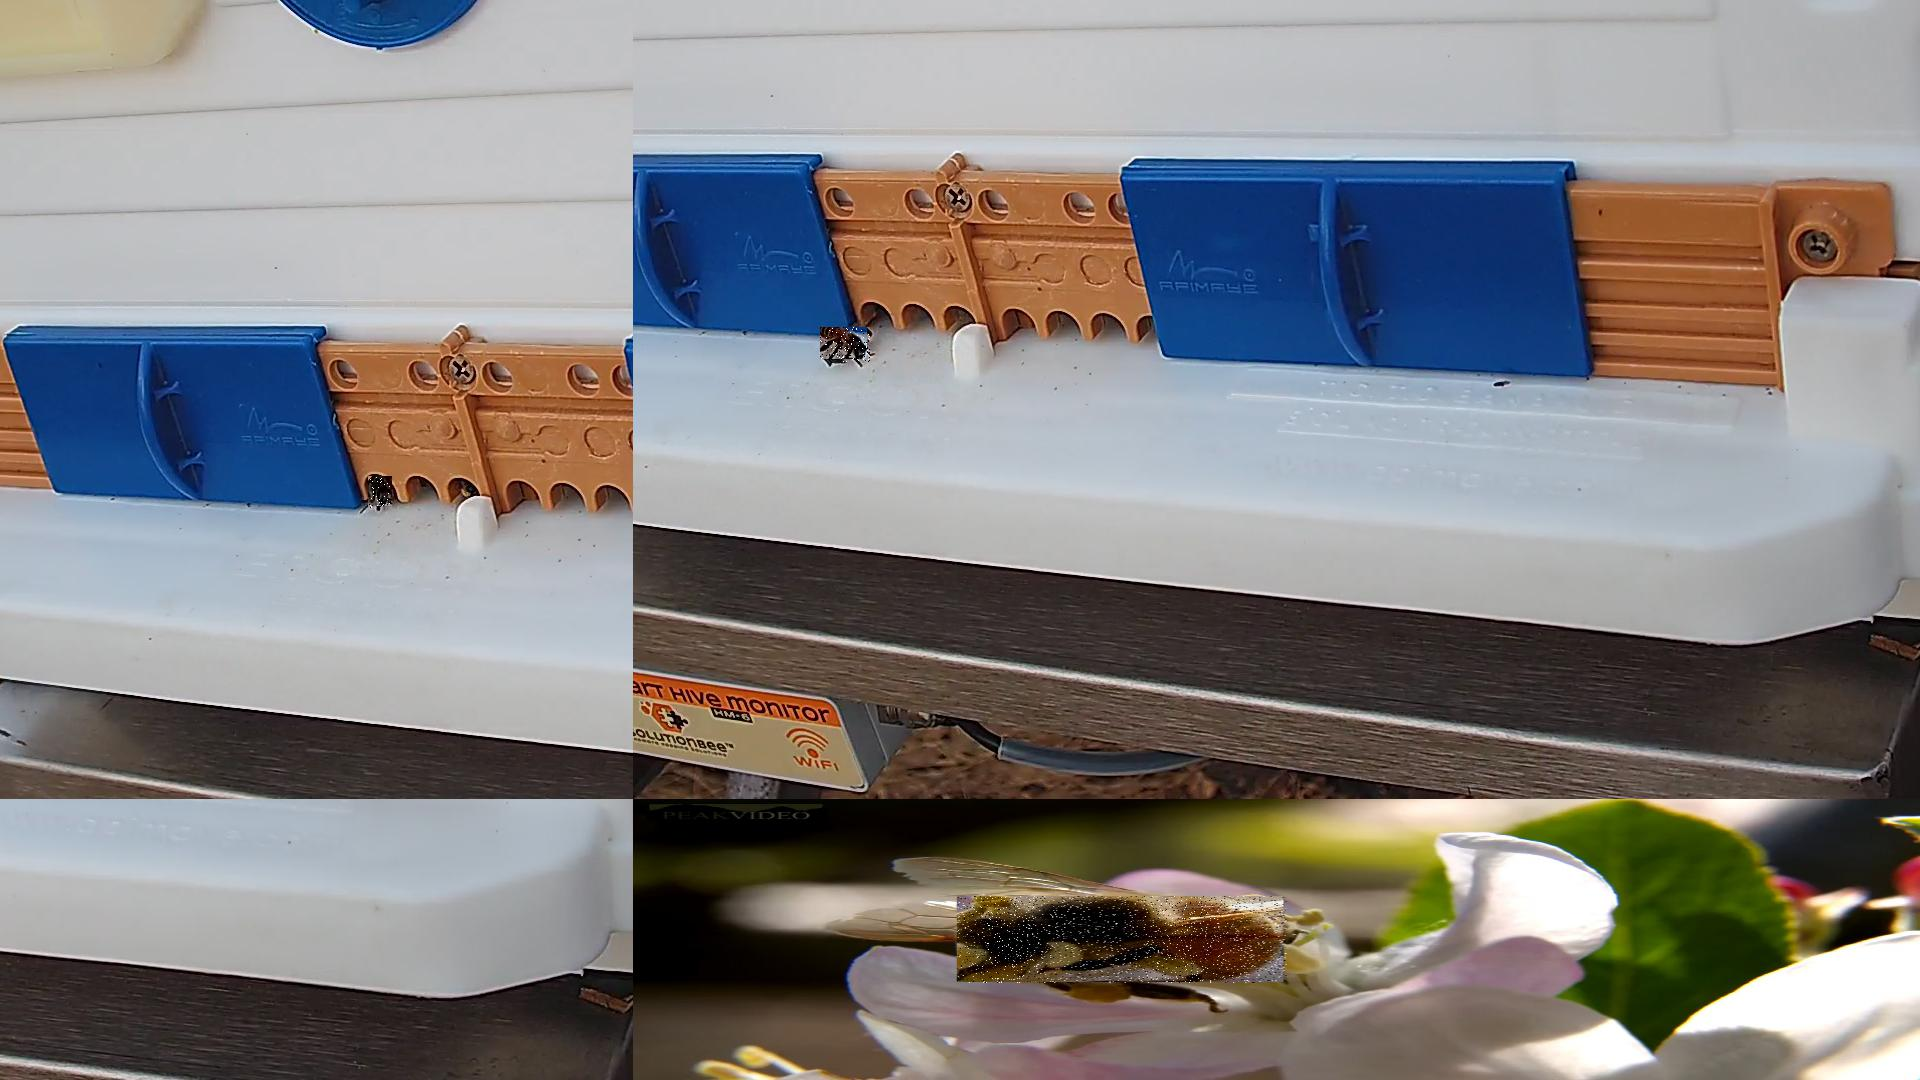bee: (822, 328, 872, 364), (368, 477, 393, 510)
pollenbee: (957, 897, 1288, 984)
